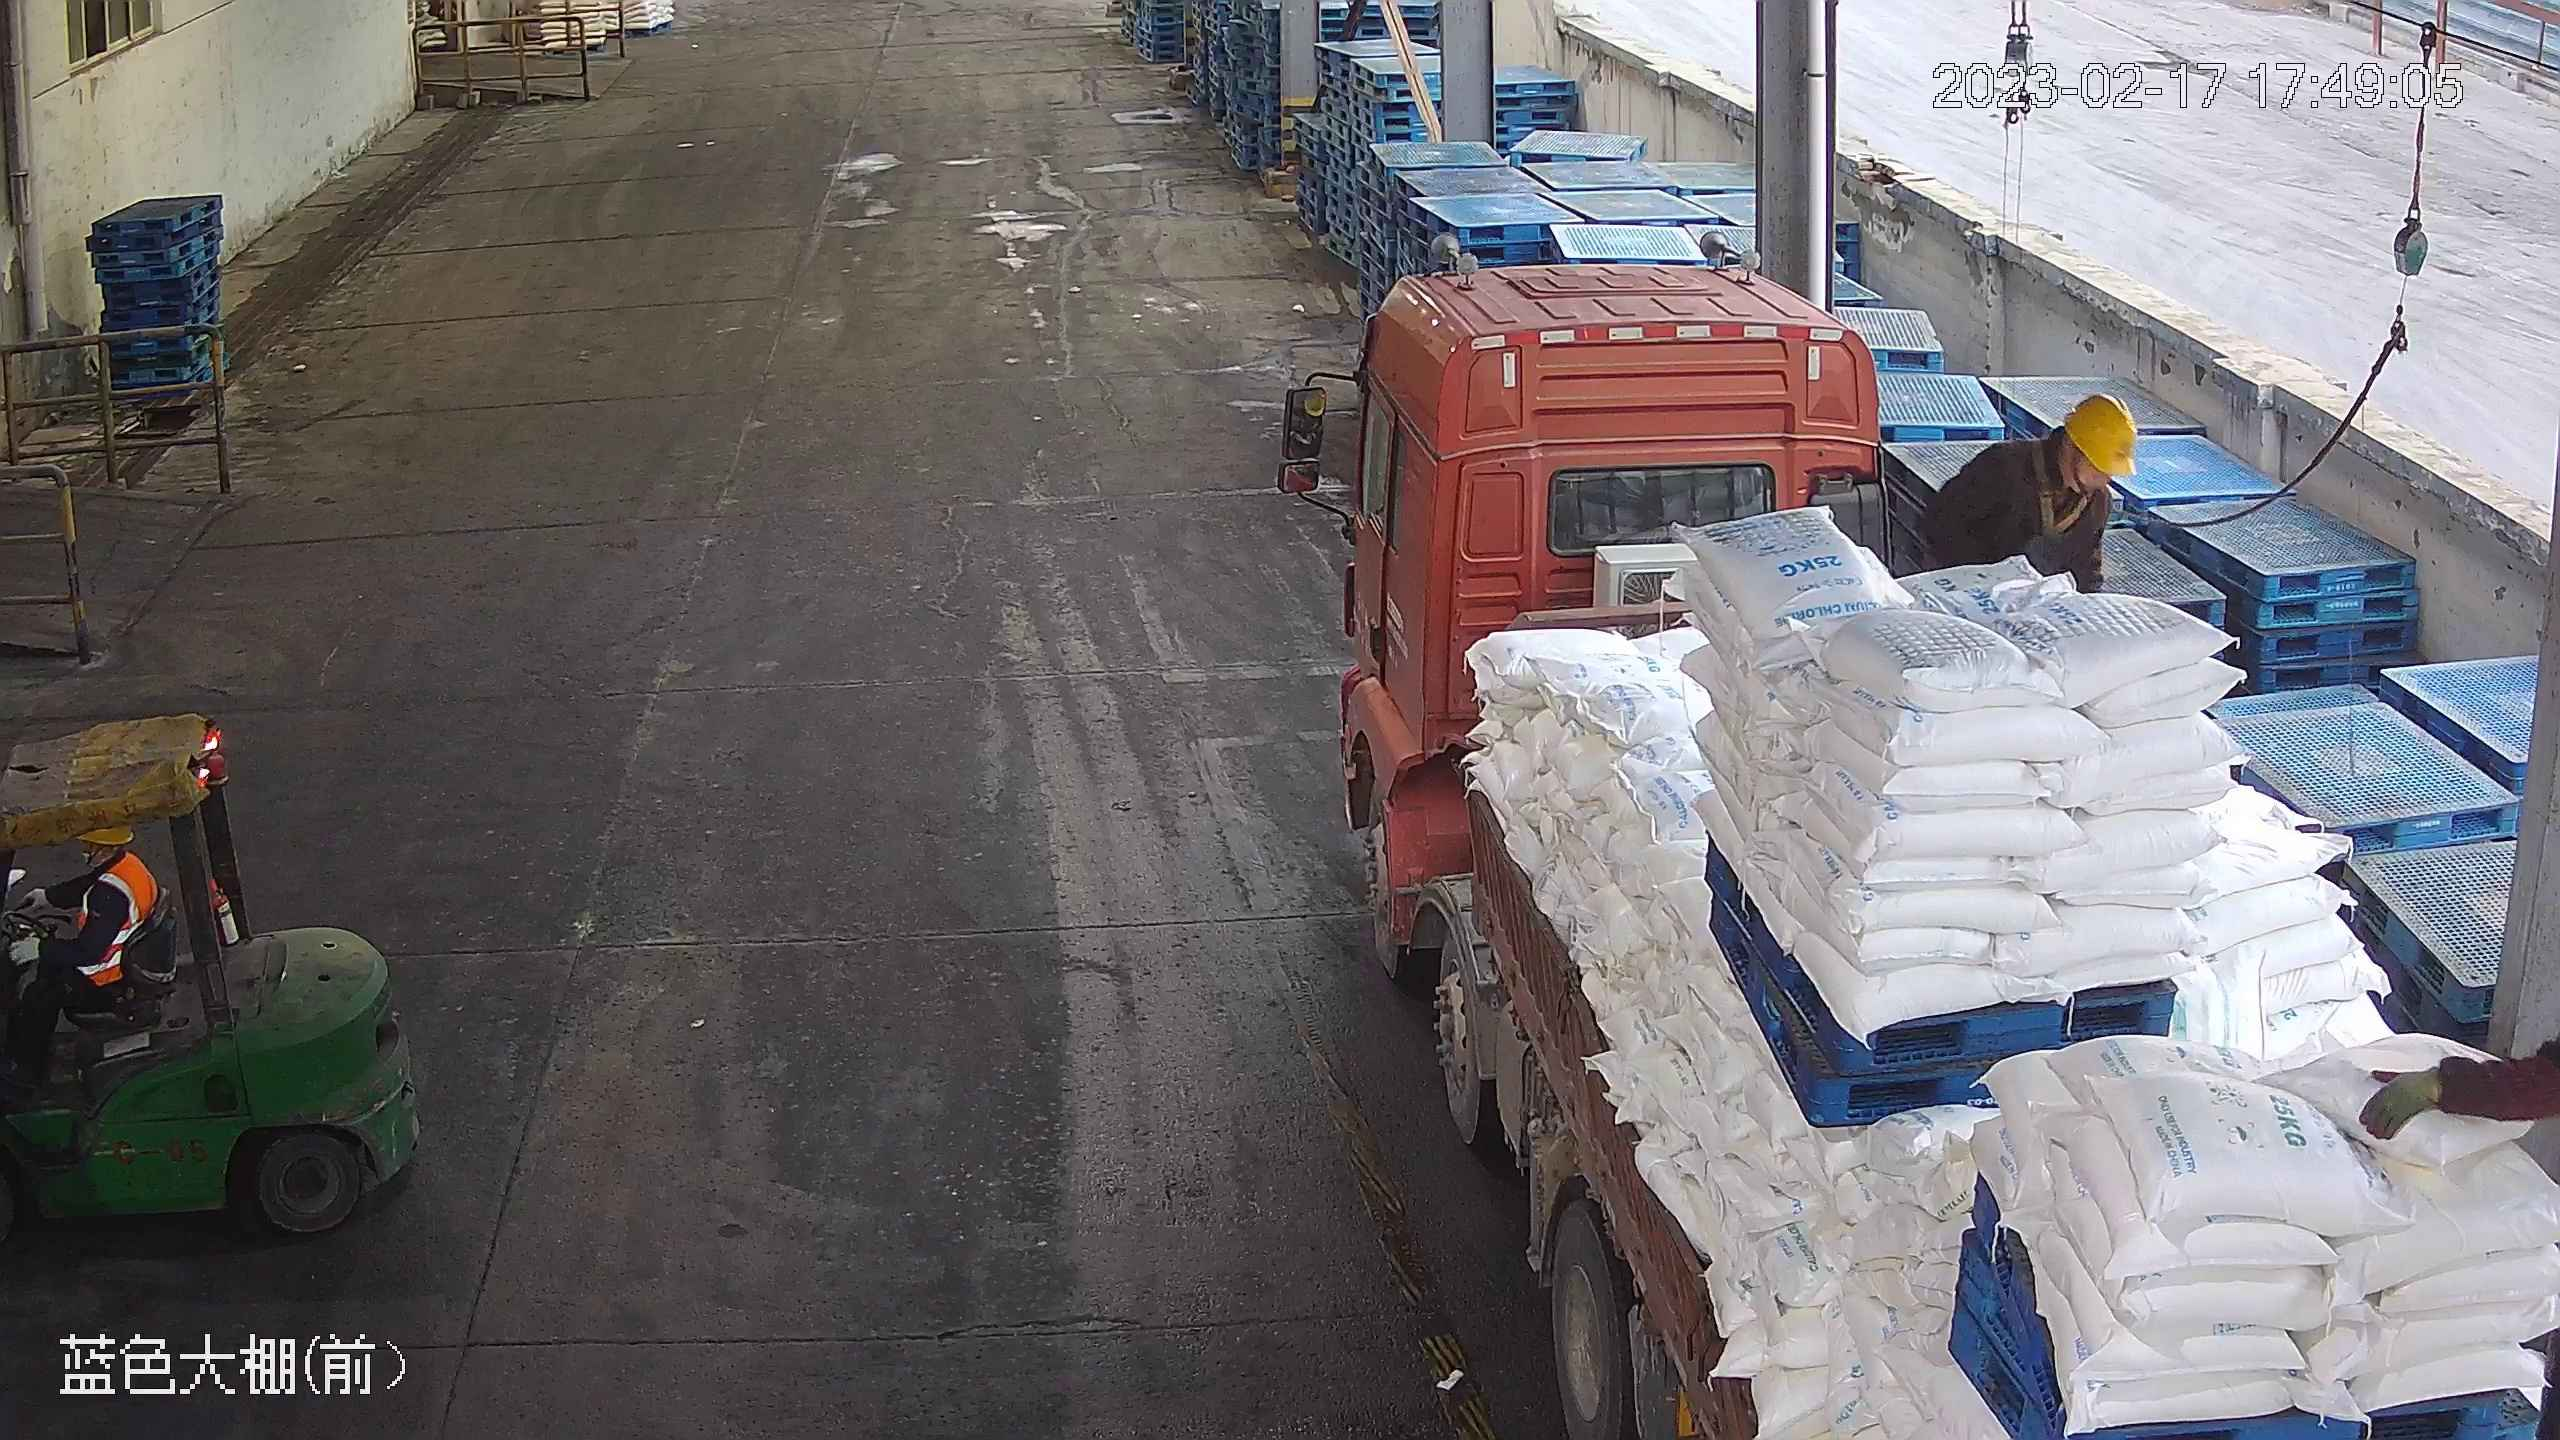belt: (2018, 447, 2092, 544)
head: (1962, 389, 2138, 525), (65, 820, 158, 912)
helmet: (2061, 393, 2137, 476)
people: (2357, 871, 2560, 1440), (0, 822, 162, 1065)
truck: (1278, 204, 2557, 1440)
